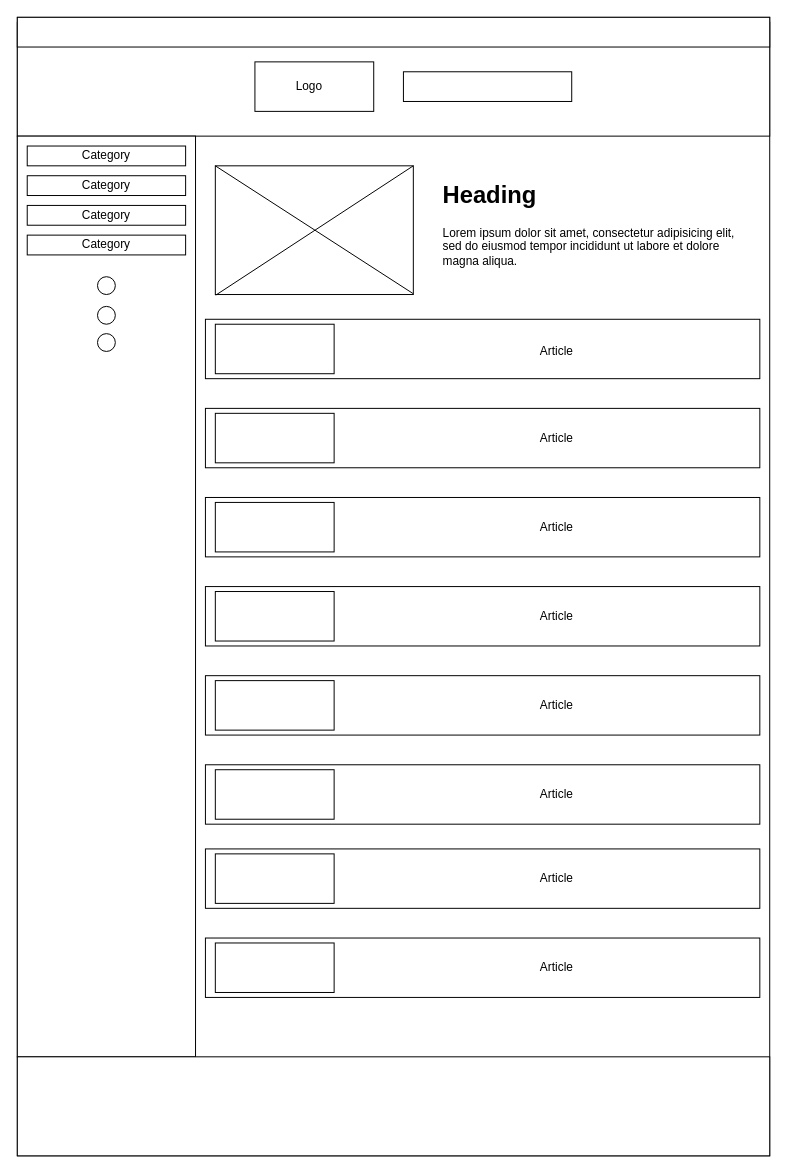
Some shapes in this 787 by 1173 pixel diagram are drawn without their labels. The box of each missing label's shape, as (x1, y1, x2, y2) in pixels:
Footer: (16, 1056, 770, 1156)
Navigation: (16, 16, 770, 47)
Search: (402, 71, 572, 101)
